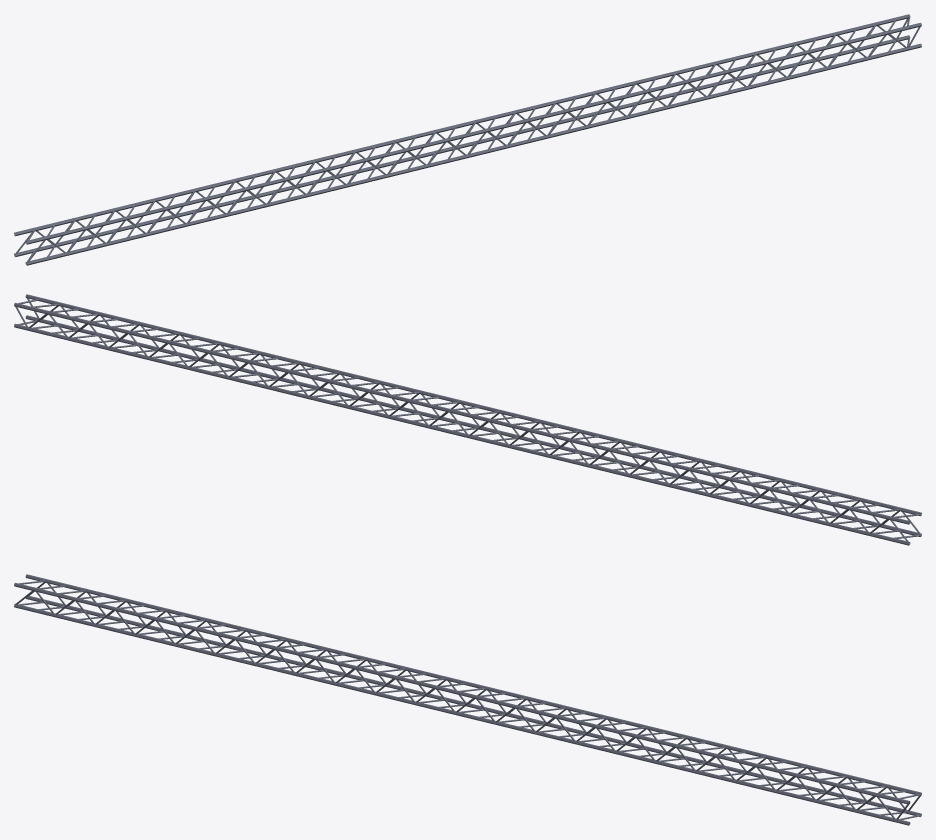
The model's file is BoothTruss.obj.
3 views of the same model, one above another, from view 1: azimuth 30°, elevation 25°; view 2: azimuth 150°, elevation 25°; view 3: azimuth 330°, elevation 25° (orthographic).
Visible parts, largest first — view 1: BoothTruss; view 2: BoothTruss; view 3: BoothTruss.
Boxes of the visible parts, x1=… form: BoothTruss: x1=14, y1=14, x2=921, y2=265; BoothTruss: x1=14, y1=294, x2=921, y2=545; BoothTruss: x1=14, y1=574, x2=921, y2=825.
Size of the model in its own units: 13.42 by 0.3433 by 0.35.
Materials: 1 (1 with a texture image).
